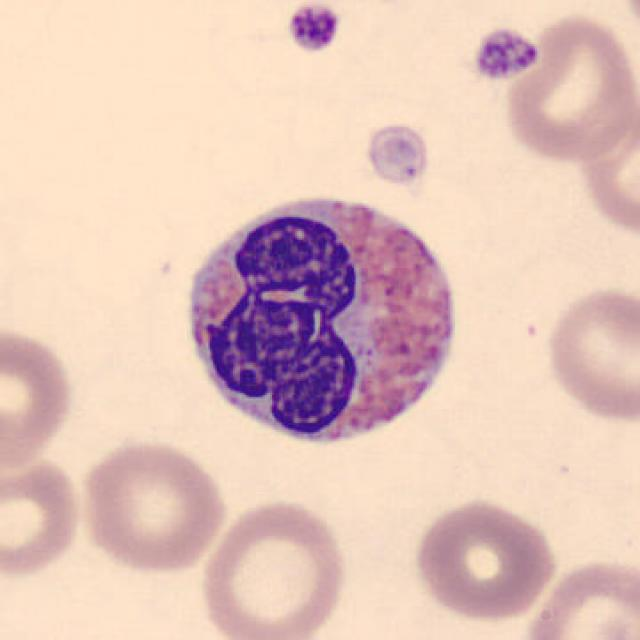Eosinophil: (173, 178, 471, 467)
Platelets: (363, 121, 432, 190), (468, 24, 542, 84), (284, 0, 343, 56)
RBC: (196, 495, 352, 640), (75, 436, 229, 576), (498, 9, 636, 164), (409, 496, 560, 624), (540, 282, 638, 427), (0, 323, 78, 474), (0, 451, 85, 579), (517, 553, 638, 640), (572, 92, 638, 243), (606, 0, 640, 46)
